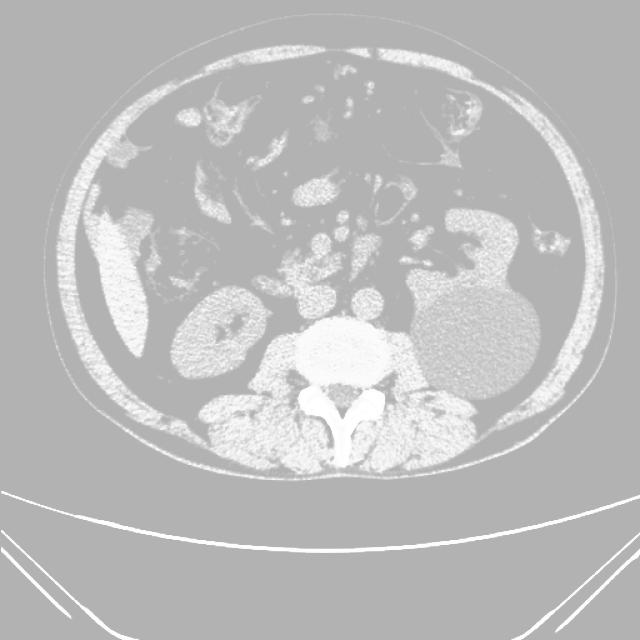cysts: (51, 40, 601, 479)
